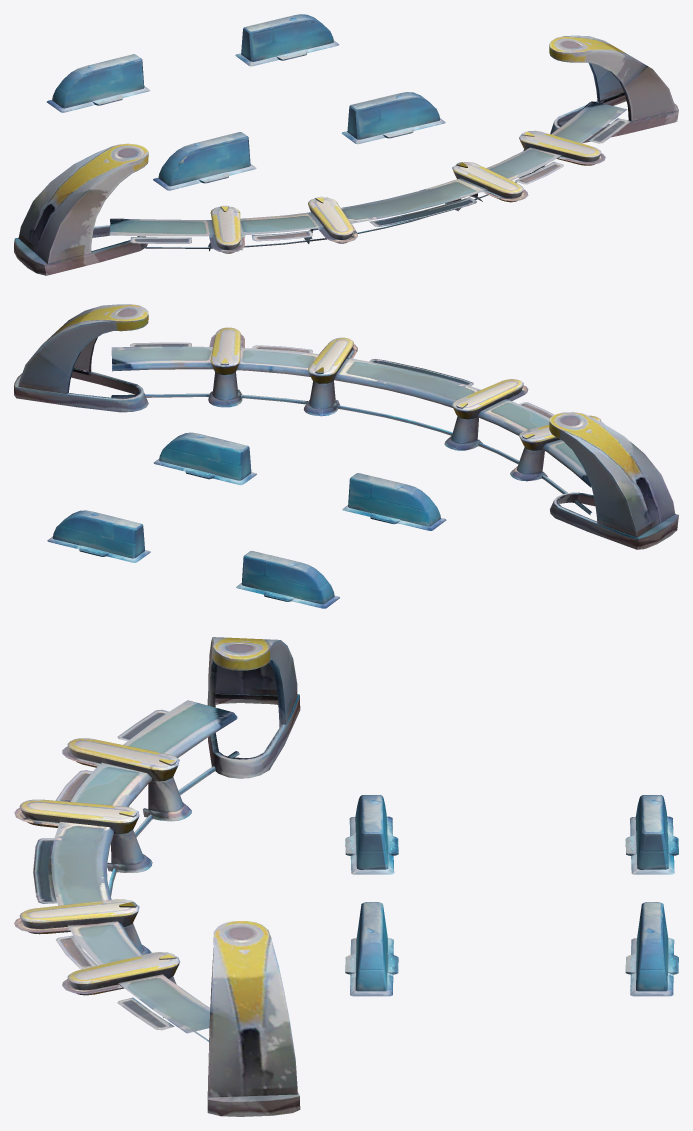
Rendered from pref_sm_beach_winter_bakegroups10_lv0.fbx.
3 views of the same model, one above another, from view 1: azimuth 30°, elevation 25°; view 2: azimuth 150°, elevation 25°; view 3: azimuth 270°, elevation 25° (orthographic). The views are drawn at different scales.
Visible parts, largest first — view 1: sm_beach_winter_bakegroups10_lv0; view 2: sm_beach_winter_bakegroups10_lv0; view 3: sm_beach_winter_bakegroups10_lv0.
Part boxes in pixels (bbox=[...]): sm_beach_winter_bakegroups10_lv0: bbox=[14, 14, 678, 275]; sm_beach_winter_bakegroups10_lv0: bbox=[14, 304, 678, 608]; sm_beach_winter_bakegroups10_lv0: bbox=[14, 637, 678, 1116].
Size of the model in its own units: 39.03 by 5.29 by 26.49.
1 material, 1 textured.
